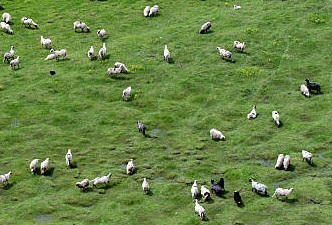sheep: (271, 185, 299, 204), (215, 46, 240, 65), (91, 171, 112, 191), (205, 177, 227, 196), (18, 15, 42, 31), (299, 147, 315, 170), (191, 198, 208, 219), (112, 60, 132, 77), (207, 128, 228, 144), (253, 177, 269, 198), (47, 46, 69, 61), (135, 118, 150, 140), (246, 105, 265, 122), (120, 84, 140, 100), (303, 78, 325, 92), (269, 107, 283, 129), (63, 148, 77, 169), (97, 42, 112, 60), (188, 178, 203, 196), (39, 157, 53, 176), (92, 27, 112, 40), (160, 43, 171, 66), (70, 21, 93, 32), (139, 6, 160, 18), (72, 177, 93, 189), (298, 83, 313, 99), (103, 66, 122, 78), (271, 152, 283, 171), (1, 170, 16, 185), (121, 158, 135, 174), (1, 20, 14, 37), (10, 56, 23, 72), (141, 175, 151, 195), (197, 22, 215, 33), (147, 4, 163, 16), (38, 35, 54, 47), (4, 43, 14, 62), (282, 151, 291, 172), (229, 189, 240, 206), (29, 159, 41, 174), (86, 43, 97, 59), (199, 182, 209, 199), (232, 40, 245, 53), (1, 13, 17, 23), (231, 2, 242, 10)
